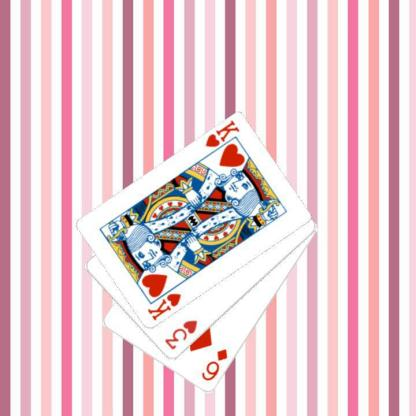3H: (162, 318, 199, 351)
6D: (199, 347, 229, 383)
KH: (144, 290, 182, 322), (202, 118, 241, 149)
